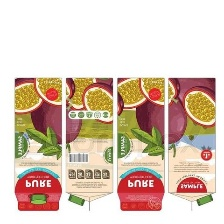carton: (166, 73, 221, 213), (11, 74, 63, 213), (115, 74, 166, 215), (64, 71, 114, 212)
